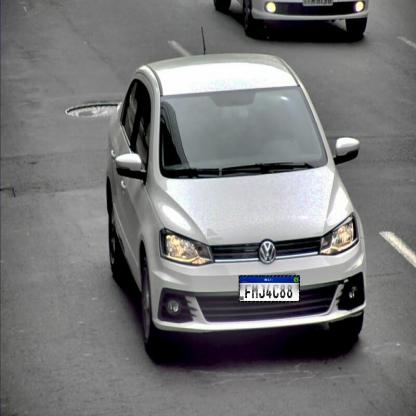PlacaM: (239, 275, 300, 302)
